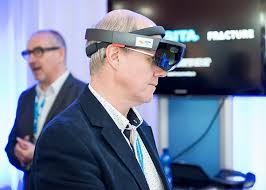hololens: (84, 26, 185, 73)
